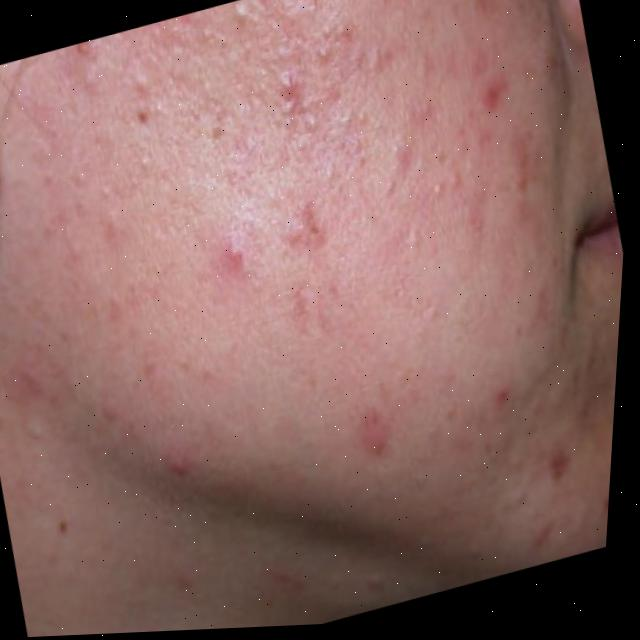Acne: (33, 0, 611, 568)
